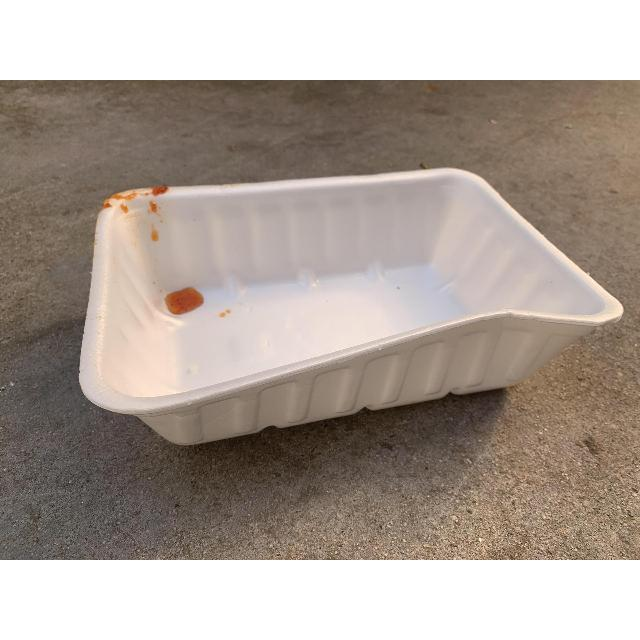Recipiente plastico: (85, 177, 630, 450)
